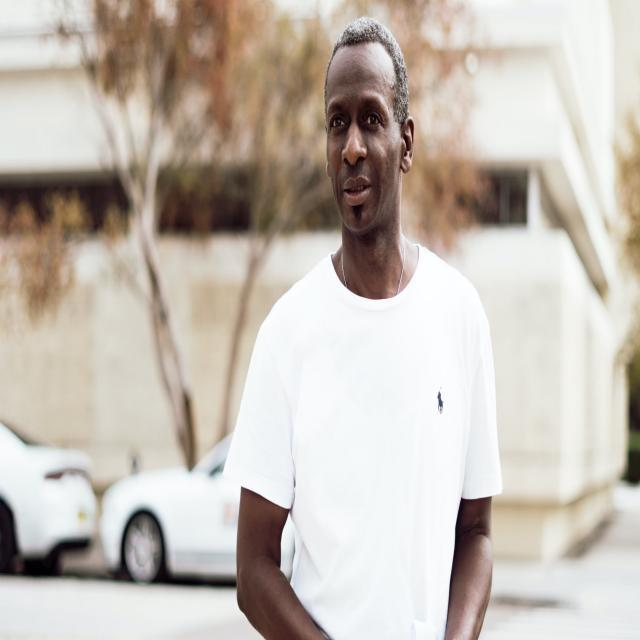person: (221, 16, 503, 640)
